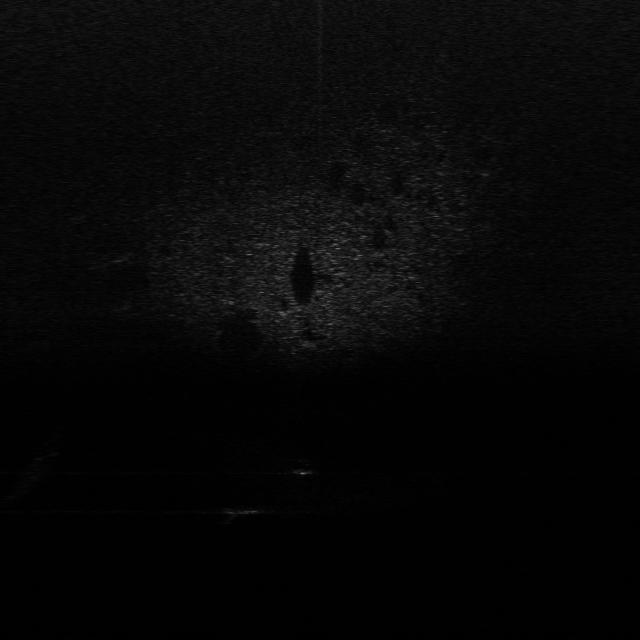ball: (286, 458, 316, 476)
square cage: (222, 502, 263, 524)
